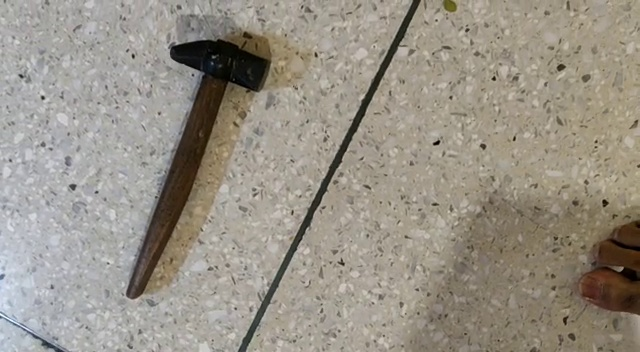hammer: (126, 38, 272, 300)
